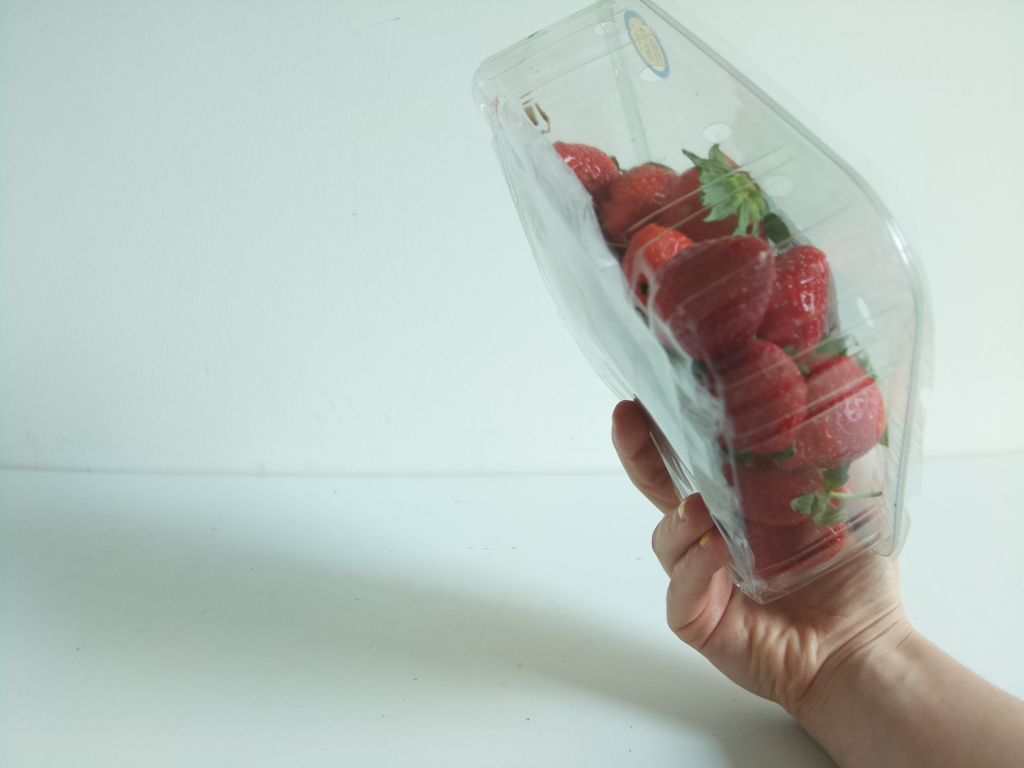soft-fruit: (477, 3, 929, 594)
